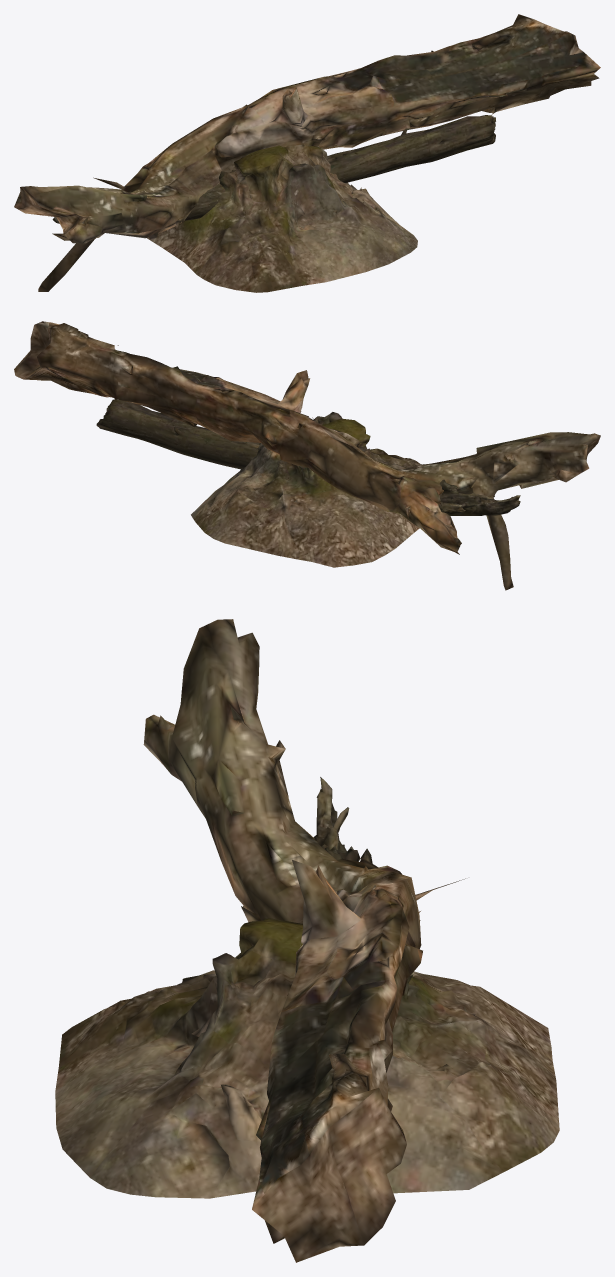
The model's file is wood.glb.
3 views of the same model, one above another, from view 1: azimuth 30°, elevation 25°; view 2: azimuth 150°, elevation 25°; view 3: azimuth 270°, elevation 25° (orthographic). The views are drawn at different scales.
Parts seen in each view (by area): view 1: log2, stump, log; view 2: log2, stump, log; view 3: stump, log2, log.
Part boxes in pixels (x1,y1,x2,y2): log2: (14,14,600,291); stump: (147,144,417,292); log: (52,115,495,223); log2: (14,321,600,590); stump: (191,412,421,567); log: (96,399,520,515); stump: (55,918,559,1198); log2: (143,619,465,1262); log: (313,777,372,863).
Size of the model in its own units: 4.05 by 1.04 by 1.59.
3 materials, 3 textured.
